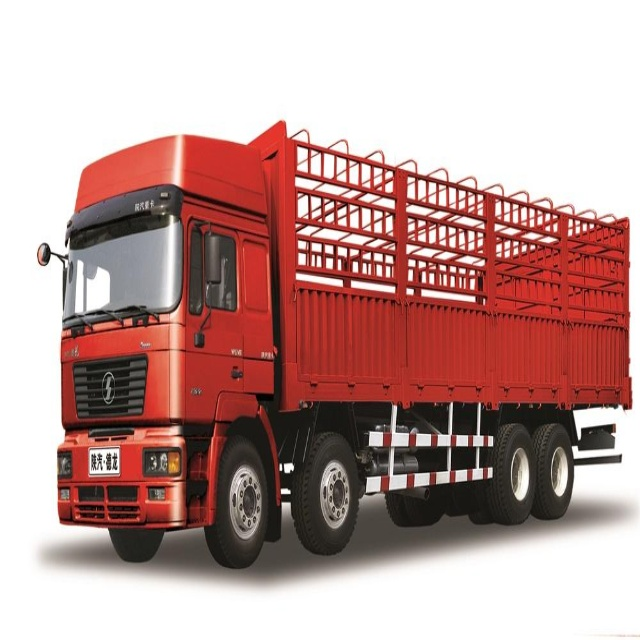Truck: (36, 120, 633, 570)
